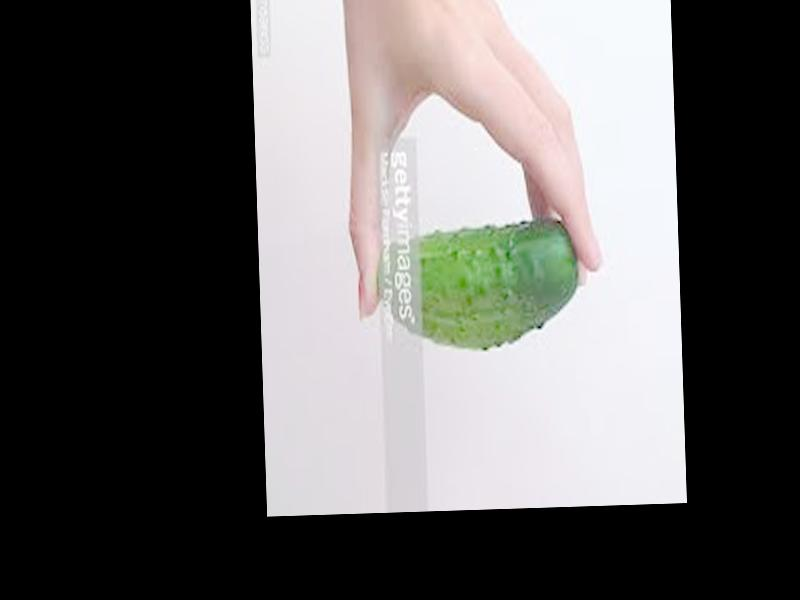Cucumber: (374, 219, 581, 354)
